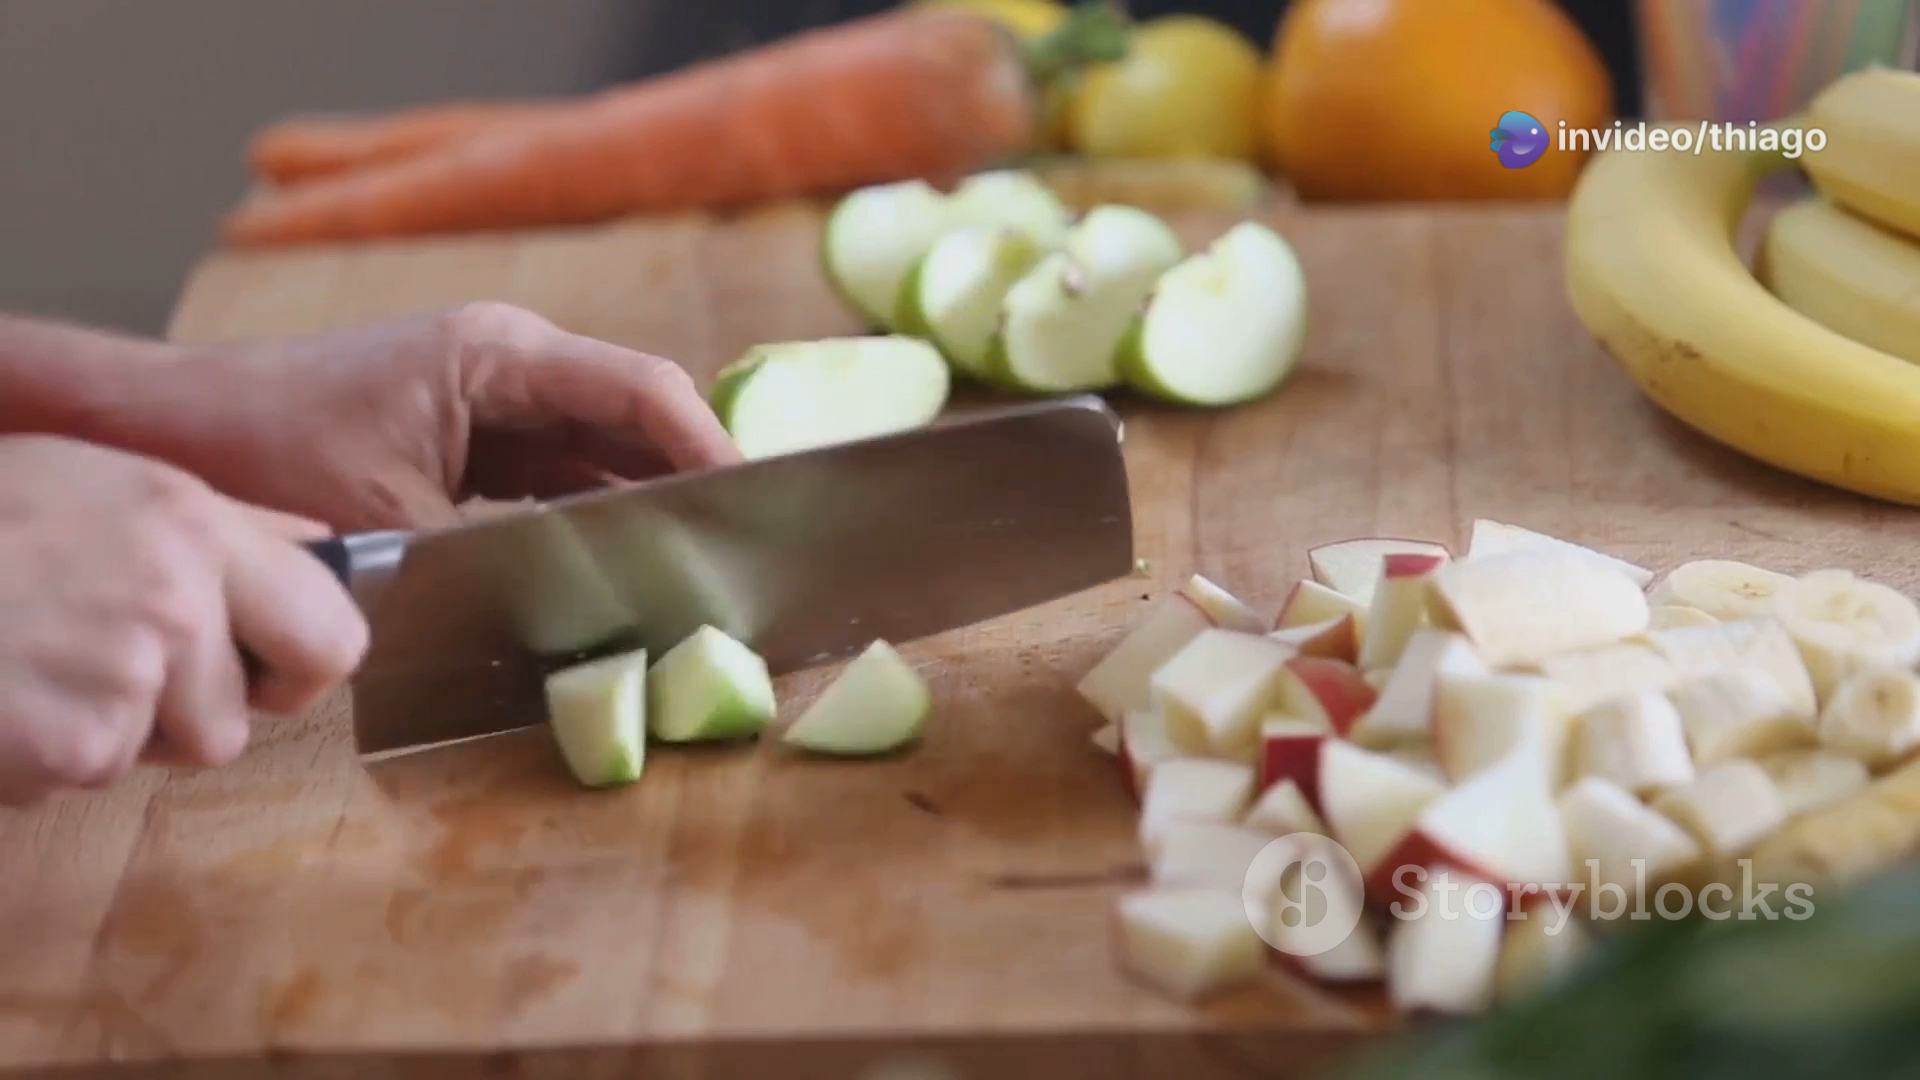cortante: (326, 397, 1134, 756)
